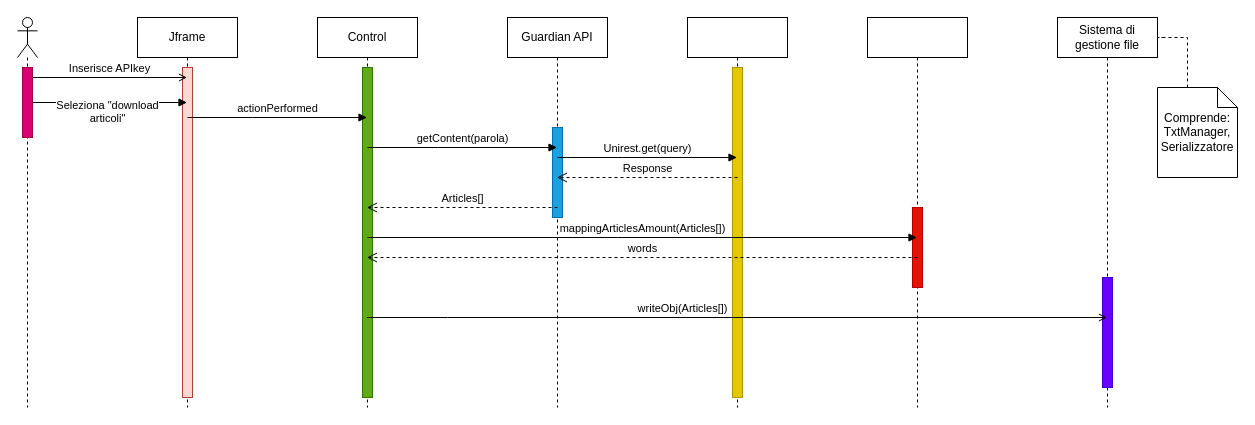
Some shapes in this 1255 by 425 pixel diagram are drawn without their labels. Here are the shapes that lost their labels. From the top down, the box of each, then its label:
(686, 16, 788, 408): Database The Guardian
(866, 16, 968, 408): Calcolatore parole
